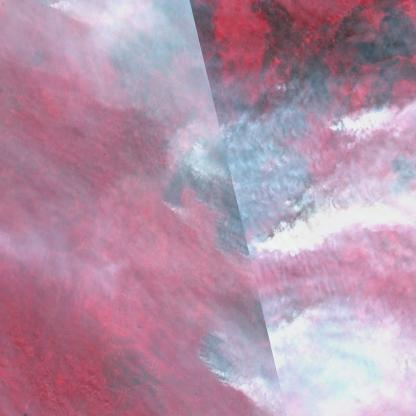fire: (249, 179, 318, 264), (196, 327, 240, 386), (320, 104, 359, 142)
